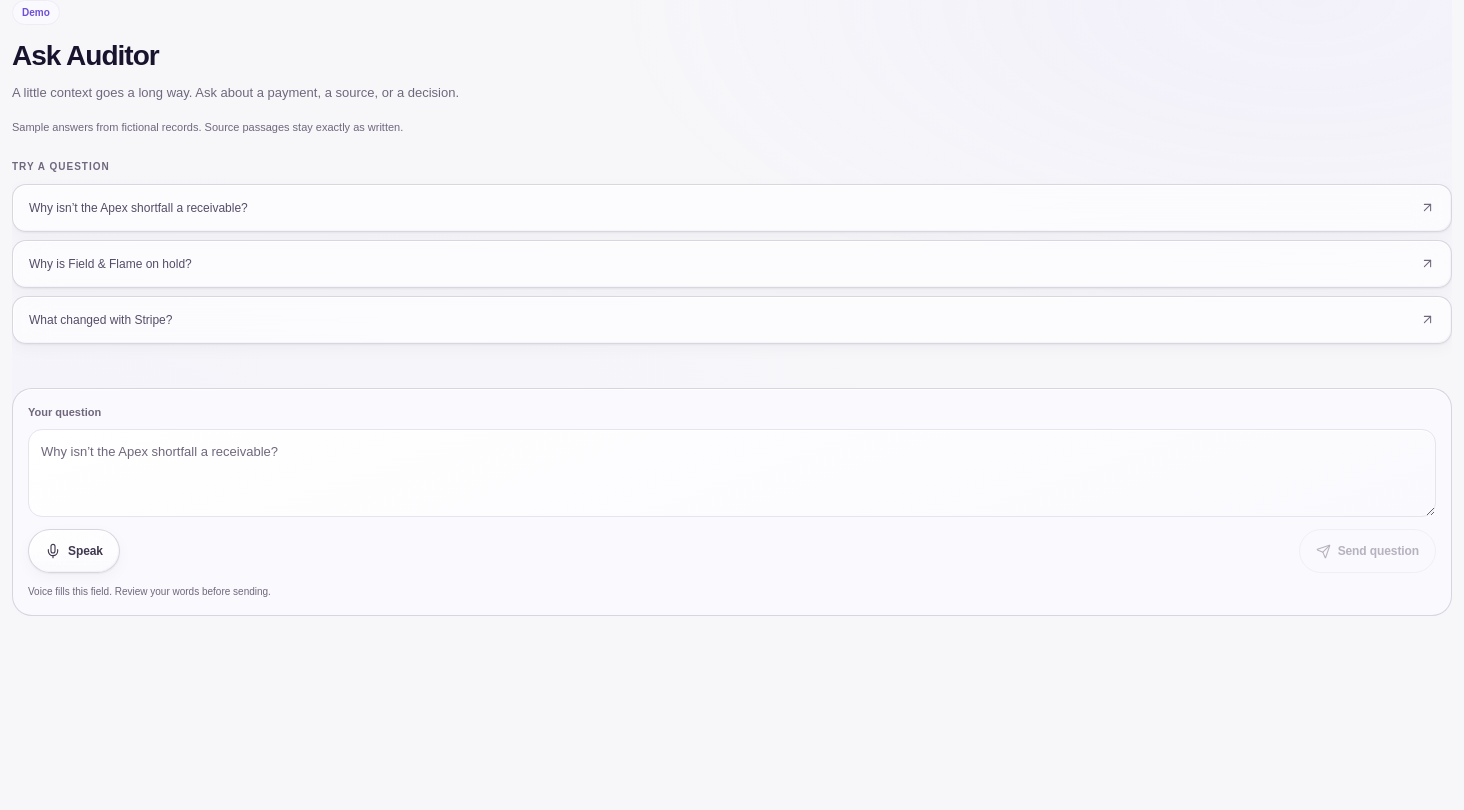
it: explicit voice input › handles audio-capture without losing the typed question
In the text box labelled "Your question": (732, 473) [28,429,1436,517], type "Explain Apex"
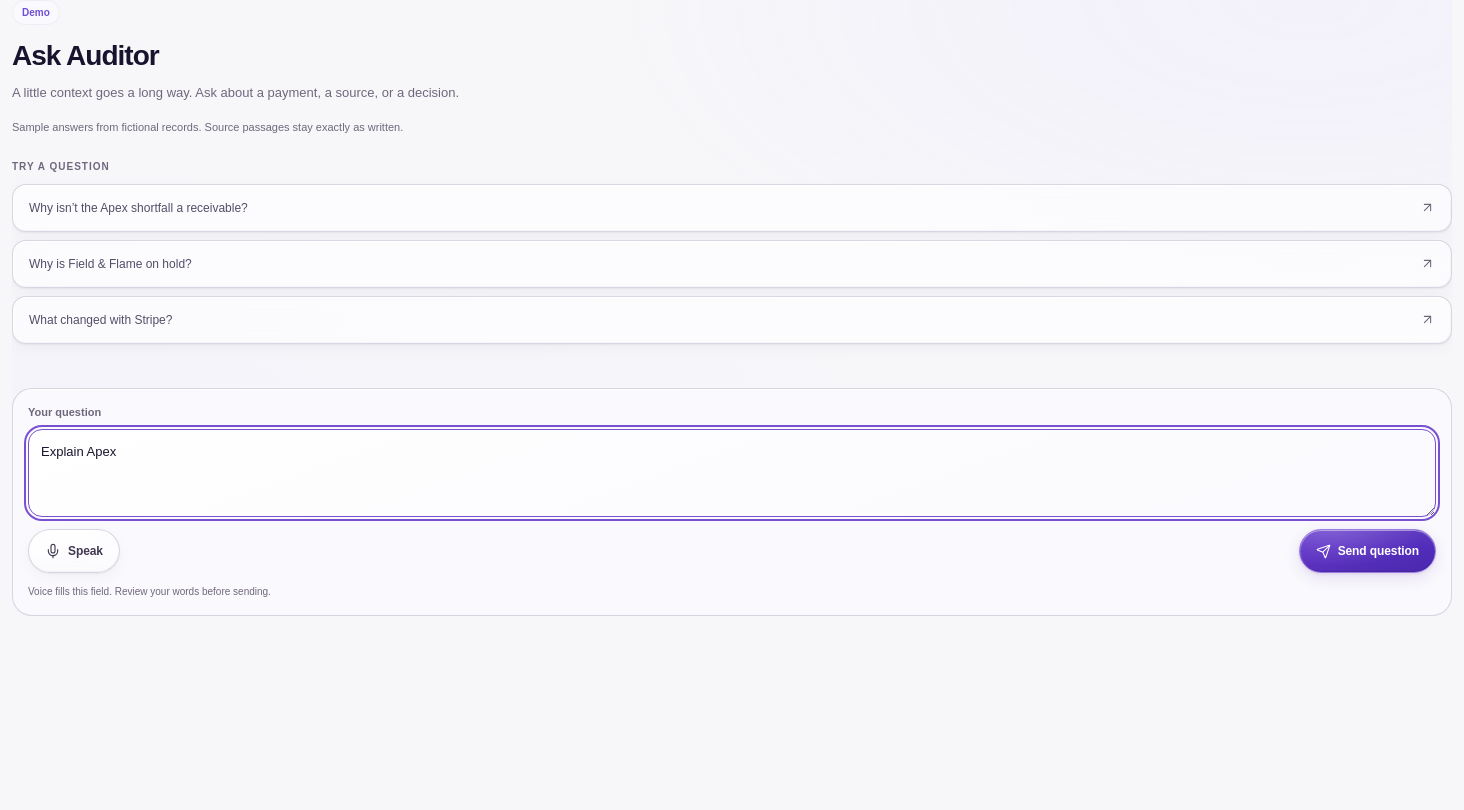
Click the button with aria-label "Start microphone": (74, 551) [28,529,120,573]
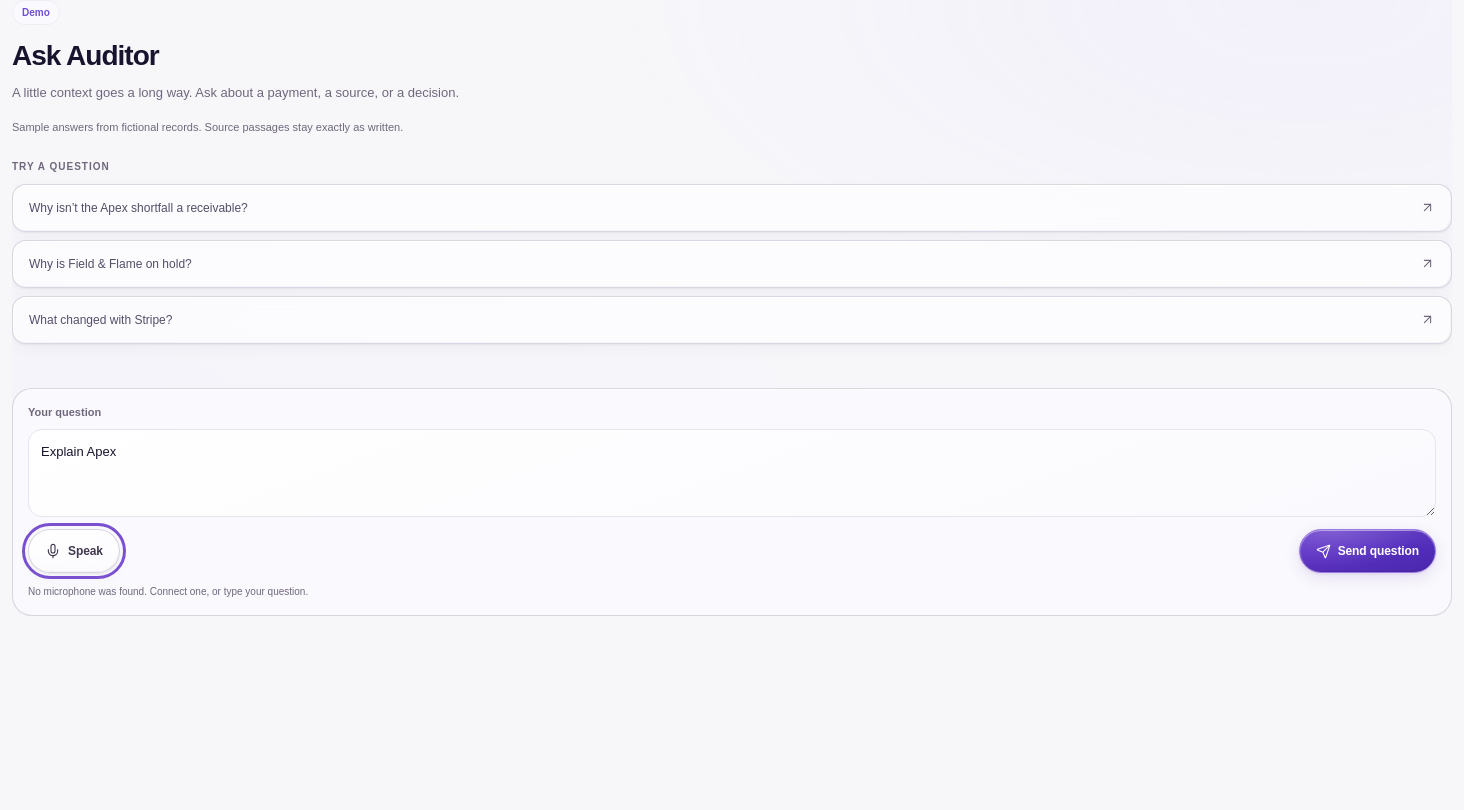
Expected: the button "Send question" is enabled, [1299,529,1436,573]
Expected: the text "No microphone was found. Connect one, or type your question." is shown, [28,586,308,597]
